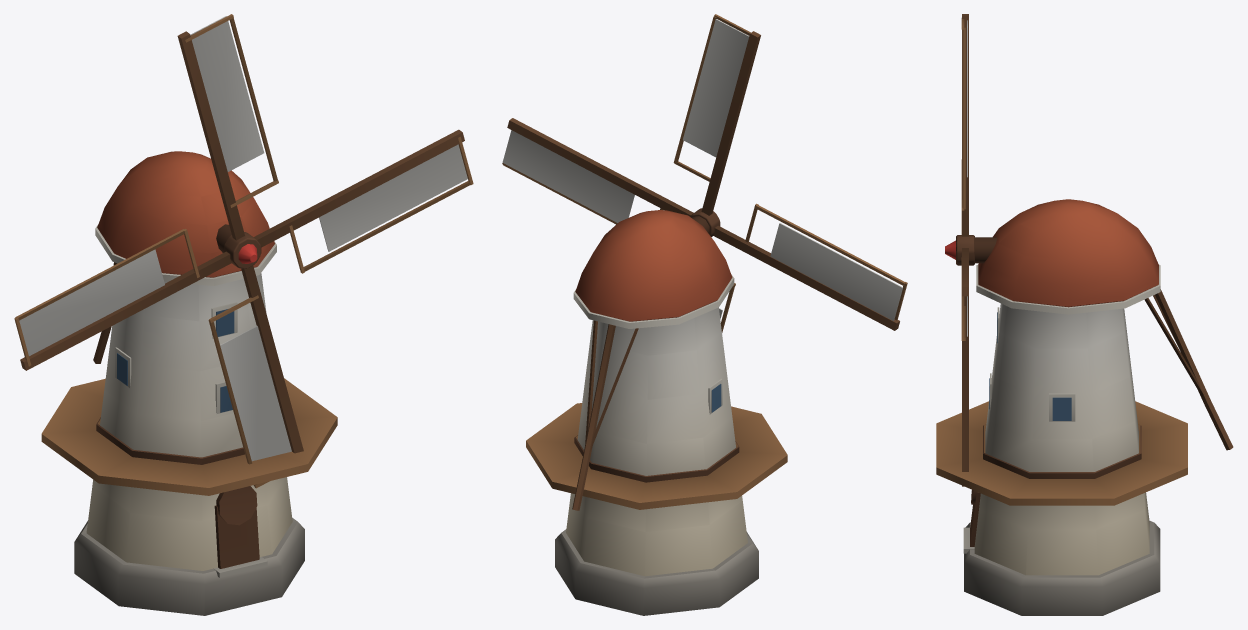
The model's file is prop.windmill.lod1.glb.
The picture shows the model from 3 angles, left to right: view 1: azimuth 30°, elevation 25°; view 2: azimuth 150°, elevation 25°; view 3: azimuth 270°, elevation 25°; orthographic projection. The views are drawn at different scales.
Visible parts, largest first — view 1: windmill, blades; view 2: windmill, blades; view 3: windmill, blades.
Part boxes in pixels (left/top/right/bottom): windmill: left=41, top=151, right=337, bottom=615; blades: left=14, top=14, right=473, bottom=488; windmill: left=526, top=210, right=787, bottom=615; blades: left=502, top=14, right=907, bottom=332; windmill: left=936, top=199, right=1233, bottom=615; blades: left=945, top=14, right=974, bottom=486.
Size of the model in its own units: 15.21 by 18.91 by 9.39.
